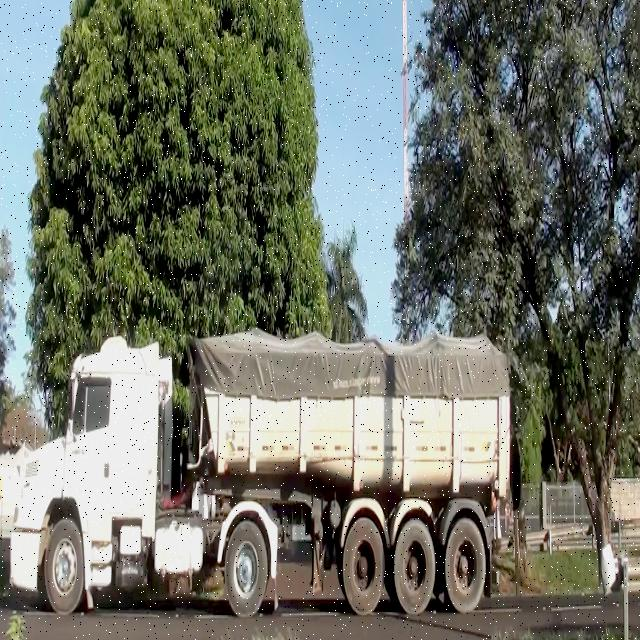-axle: (341, 521, 386, 615), (442, 517, 486, 613), (392, 519, 435, 616), (225, 523, 269, 617), (43, 520, 86, 616)
